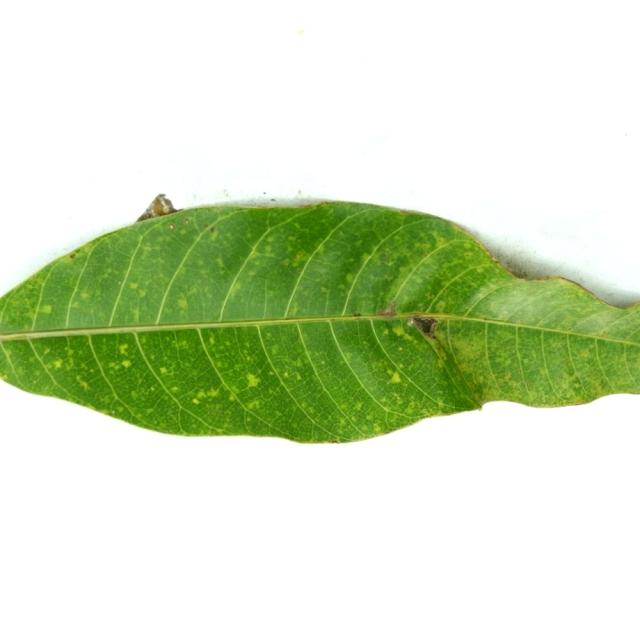Mango: (0, 195, 639, 442)
Powdery_Mildew: (239, 366, 264, 391), (193, 387, 220, 402), (291, 251, 307, 265), (228, 282, 243, 295), (288, 302, 300, 317), (389, 371, 401, 383), (246, 400, 260, 410), (214, 257, 225, 269), (118, 344, 129, 355), (52, 359, 64, 369), (40, 304, 52, 314), (392, 327, 405, 336), (177, 299, 188, 309), (78, 380, 89, 390), (580, 348, 592, 357), (132, 308, 140, 321), (360, 254, 370, 264), (79, 291, 90, 300), (294, 358, 304, 367), (345, 273, 354, 283), (195, 260, 205, 269), (382, 328, 391, 337), (121, 360, 131, 368), (129, 282, 139, 290), (354, 402, 363, 410), (230, 386, 239, 394), (438, 400, 447, 408), (383, 274, 393, 281), (271, 346, 279, 354), (340, 418, 348, 426), (287, 236, 295, 244), (247, 270, 256, 277), (159, 367, 167, 374), (192, 398, 200, 405), (295, 373, 302, 381), (321, 286, 329, 293), (373, 424, 381, 431), (340, 404, 348, 411), (69, 252, 77, 259), (209, 337, 215, 345), (171, 386, 178, 392), (146, 408, 153, 414), (397, 365, 403, 372), (283, 371, 289, 377), (210, 227, 215, 233), (320, 360, 325, 365), (169, 224, 174, 229), (184, 219, 189, 224), (399, 347, 403, 351)
